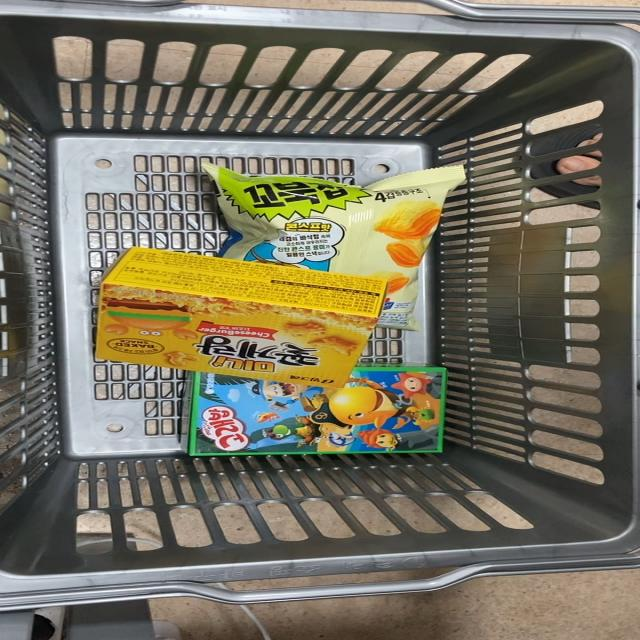ggobukchip: (218, 160, 477, 265)
goraebob: (179, 376, 459, 469)
minicrab: (84, 258, 391, 374)
